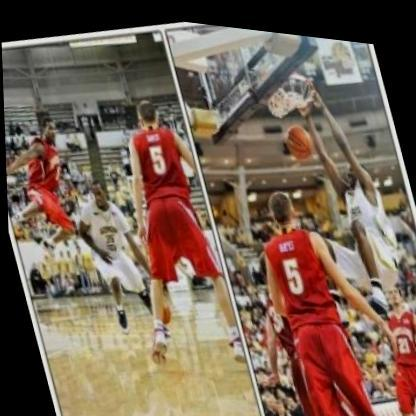basketball: (275, 111, 321, 164)
